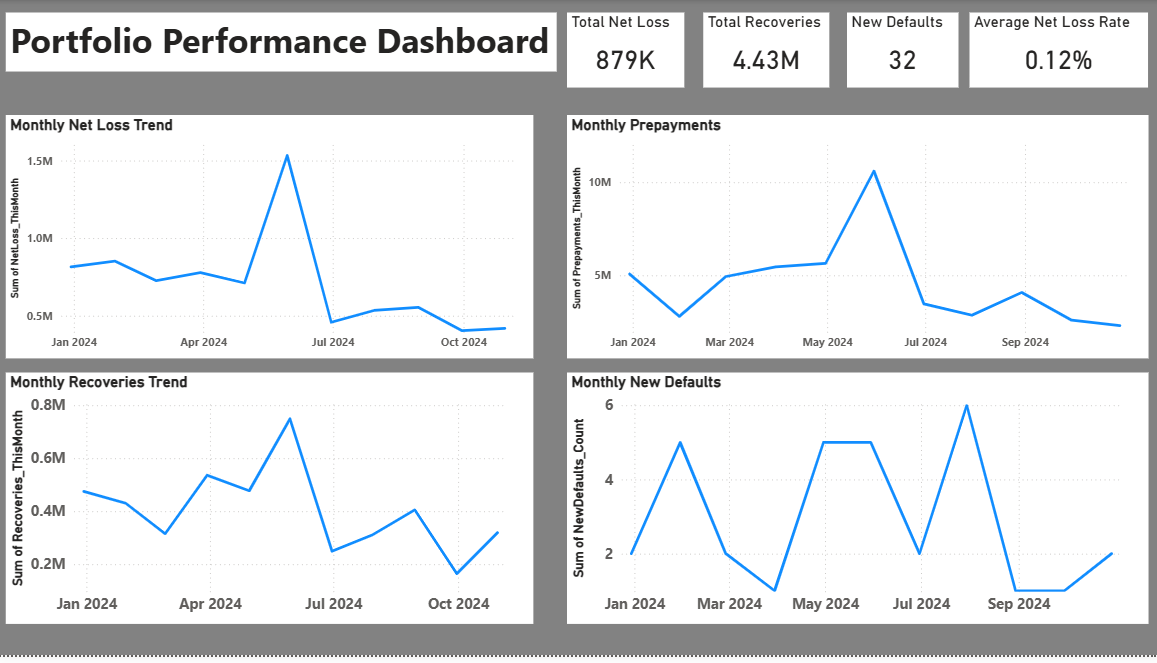

The dashboard page shown, as its layout file describes it:
{"tool":"powerbi","page":{"name":"Portfolio Performance Dashboard","canvas":[1280,720],"ordinal":2},"visuals":[{"type":"textbox","box":[9.6,13.7,605.1,64.5],"z":0},{"type":"lineChart","title":"Monthly Net Loss Trend","fields":{"Y":["Sum(dynamic_loss_monthly.NetLoss_ThisMonth)"],"Category":["dynamic_loss_monthly.ReportingDate"]},"box":[9.6,126.2,579.1,267.6],"z":1000},{"type":"card","title":"Total Recoveries","fields":{"Values":["Sum(dynamic_loss_monthly.Recoveries_ThisMonth)"]},"box":[775.3,13.7,138.6,82.3],"z":2000},{"type":"card","title":"Total Net Loss","fields":{"Values":["Loans.Total Net Loss"]},"box":[625.7,13.7,129,82.3],"z":3000},{"type":"card","title":"New Defaults","fields":{"Values":["Sum(dynamic_loss_monthly.NewDefaults_Count)"]},"box":[933.1,13.7,122.1,82.3],"z":4000},{"type":"card","title":"Average Net Loss Rate","fields":{"Values":["Loans.Average Net Loss Rate"]},"box":[1067.6,13.7,196.2,82.3],"z":5000},{"type":"lineChart","title":"Monthly Recoveries Trend","fields":{"Y":["Sum(dynamic_loss_monthly.Recoveries_ThisMonth)"],"Category":["dynamic_loss_monthly.ReportingDate.Variation.Date Hierarchy.Year","dynamic_loss_monthly.ReportingDate.Variation.Date Hierarchy.Quarter","dynamic_loss_monthly.ReportingDate.Variation.Date Hierarchy.Month","dynamic_loss_monthly.ReportingDate.Variation.Date Hierarchy.Day"]},"box":[9.6,408.9,579.1,275.8],"z":6000},{"type":"lineChart","title":"Monthly Prepayments","fields":{"Category":["dynamic_loss_monthly.ReportingDate.Variation.Date Hierarchy.Year","dynamic_loss_monthly.ReportingDate.Variation.Date Hierarchy.Quarter","dynamic_loss_monthly.ReportingDate.Variation.Date Hierarchy.Month","dynamic_loss_monthly.ReportingDate.Variation.Date Hierarchy.Day"],"Y":["Sum(dynamic_loss_monthly.Prepayments_ThisMonth)"]},"box":[625.7,126.2,638.1,267.6],"z":7000},{"type":"lineChart","title":"Monthly New Defaults","fields":{"Category":["dynamic_loss_monthly.ReportingDate.Variation.Date Hierarchy.Year","dynamic_loss_monthly.ReportingDate.Variation.Date Hierarchy.Quarter","dynamic_loss_monthly.ReportingDate.Variation.Date Hierarchy.Month","dynamic_loss_monthly.ReportingDate.Variation.Date Hierarchy.Day"],"Y":["Sum(dynamic_loss_monthly.NewDefaults_Count)"]},"box":[625.7,408.9,638.1,275.8],"z":8000}]}

Visuals, with their boxes in screenshot pixels (x1, y1, x2, y2), scaled from the page's 1280x720 canvas onto the 1157x663 screenshot:
textbox: box=[9, 13, 556, 72]
"Monthly Net Loss Trend" lineChart: box=[9, 116, 532, 363]
"Total Recoveries" card: box=[701, 13, 826, 88]
"Total Net Loss" card: box=[566, 13, 682, 88]
"New Defaults" card: box=[843, 13, 954, 88]
"Average Net Loss Rate" card: box=[965, 13, 1142, 88]
"Monthly Recoveries Trend" lineChart: box=[9, 377, 532, 630]
"Monthly Prepayments" lineChart: box=[566, 116, 1142, 363]
"Monthly New Defaults" lineChart: box=[566, 377, 1142, 630]
